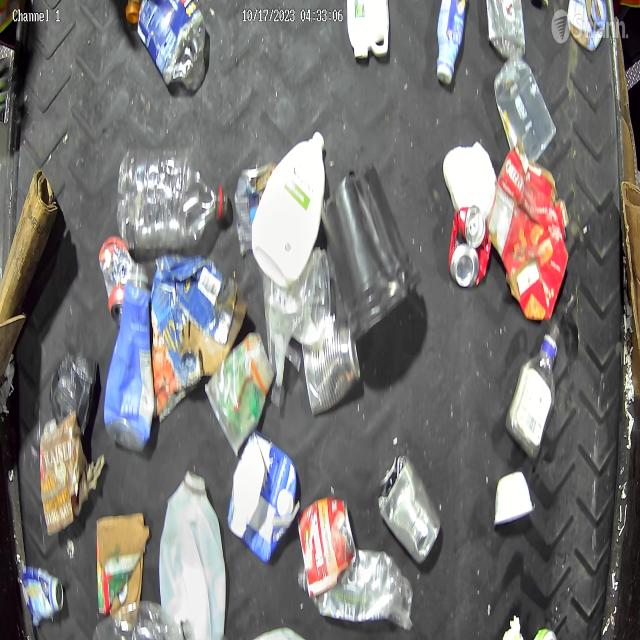can: (377, 452, 442, 565), (296, 498, 356, 599), (301, 320, 360, 415), (450, 204, 493, 292)
milk_jug: (251, 129, 327, 287), (161, 472, 227, 638)
plastic_bottle: (117, 155, 228, 249), (506, 328, 562, 461), (93, 601, 186, 639), (488, 0, 526, 61)
